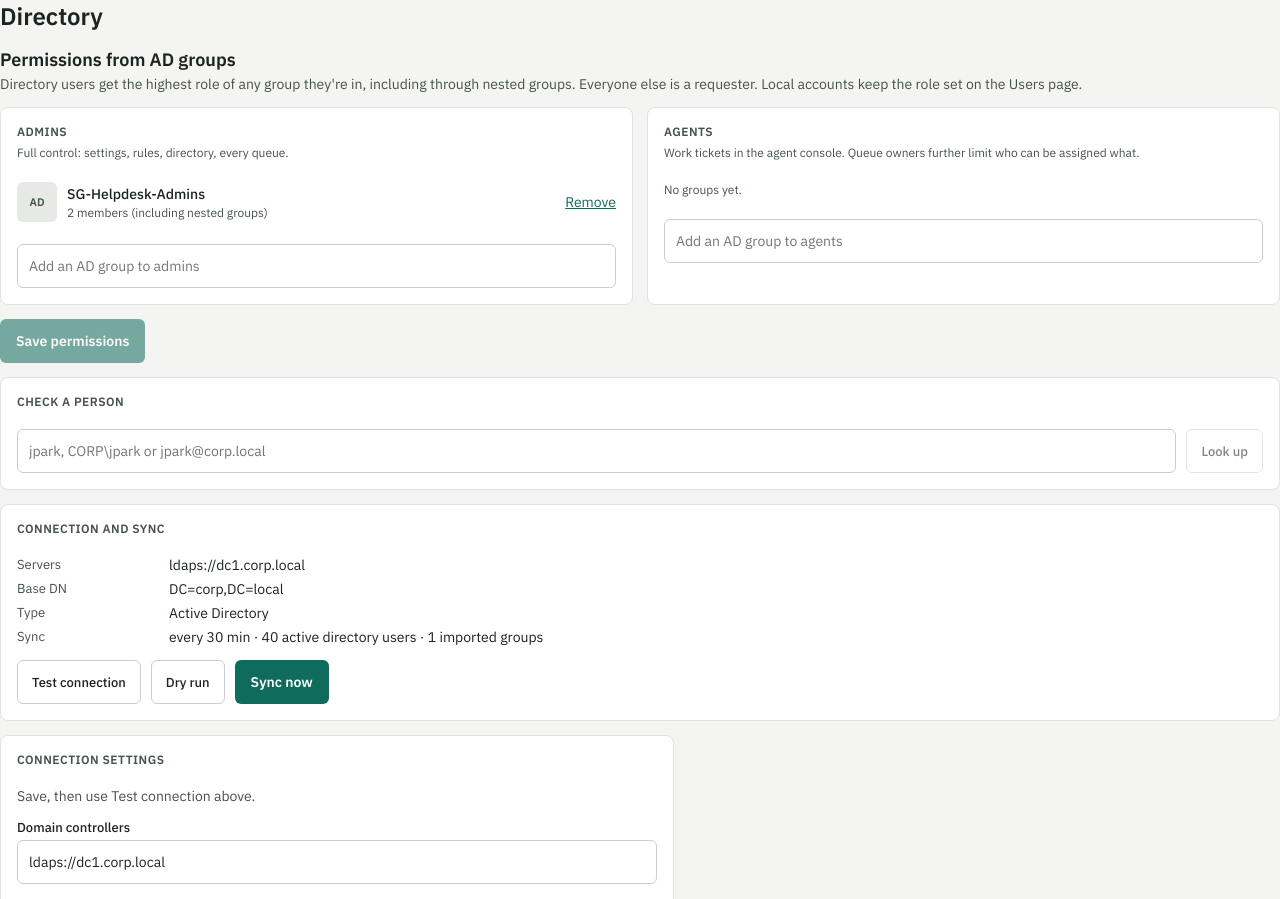
Scenario: check a person shows their role and where it comes from
Type "mosei" into the field named "Email, UPN or username" at point(597, 451), box [17,429,1176,473]
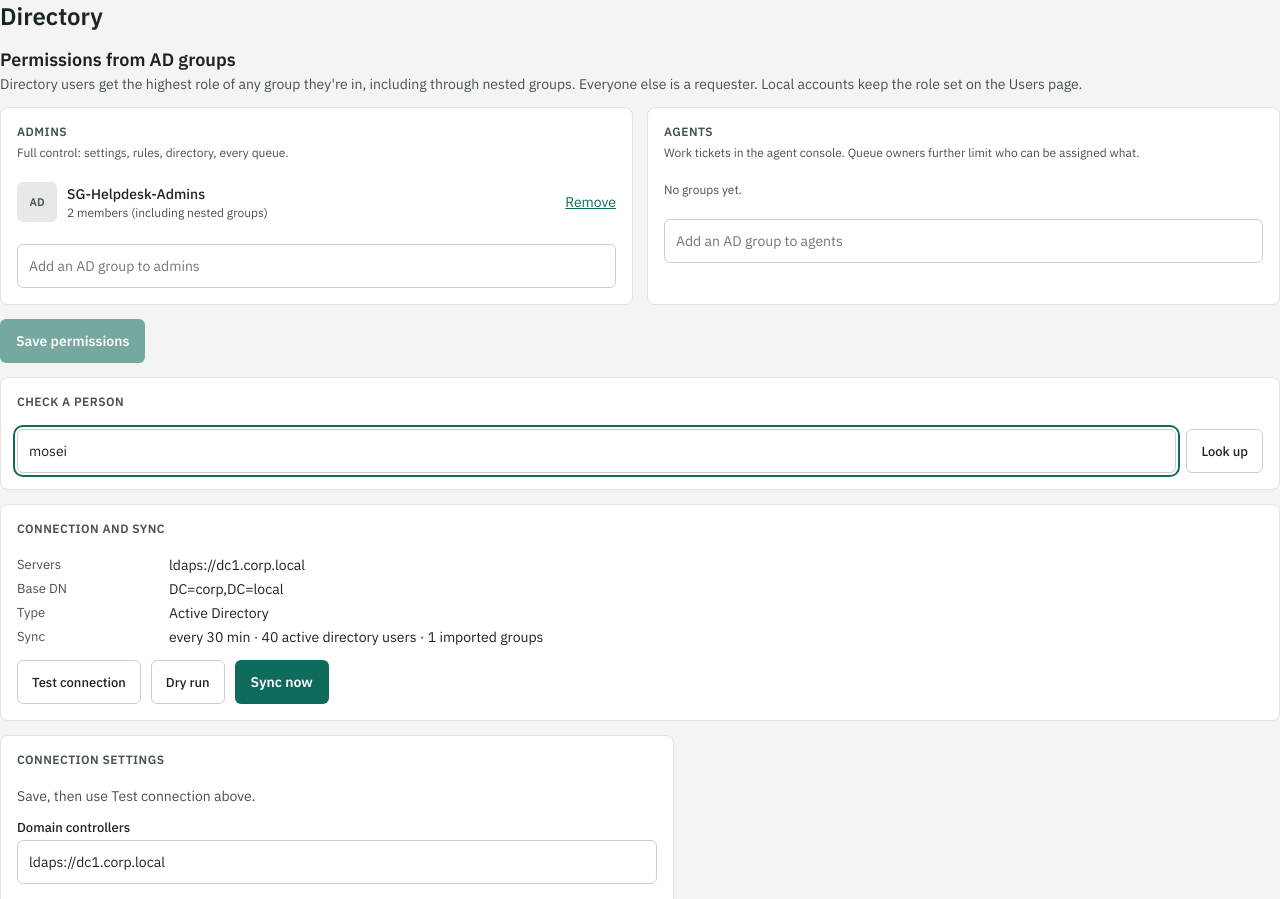
Click the button "Look up" at point(1225, 451), box [1186,429,1263,473]
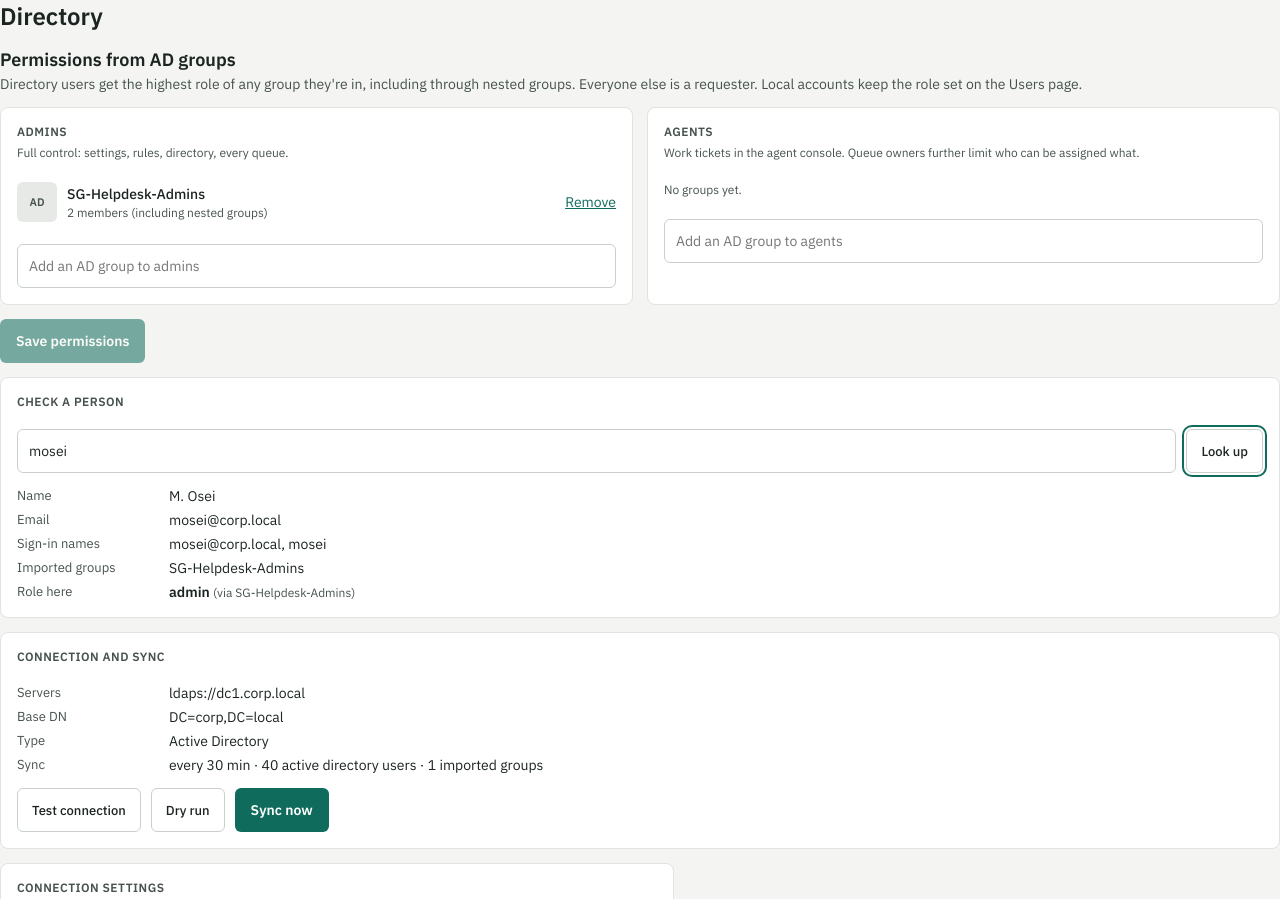
Expected: the text "(via SG-Helpdesk-Admins)" is shown, [213,585,355,600]
